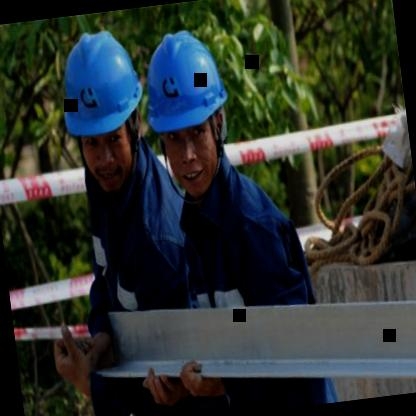helmet: (43, 16, 161, 200), (140, 14, 249, 198)
